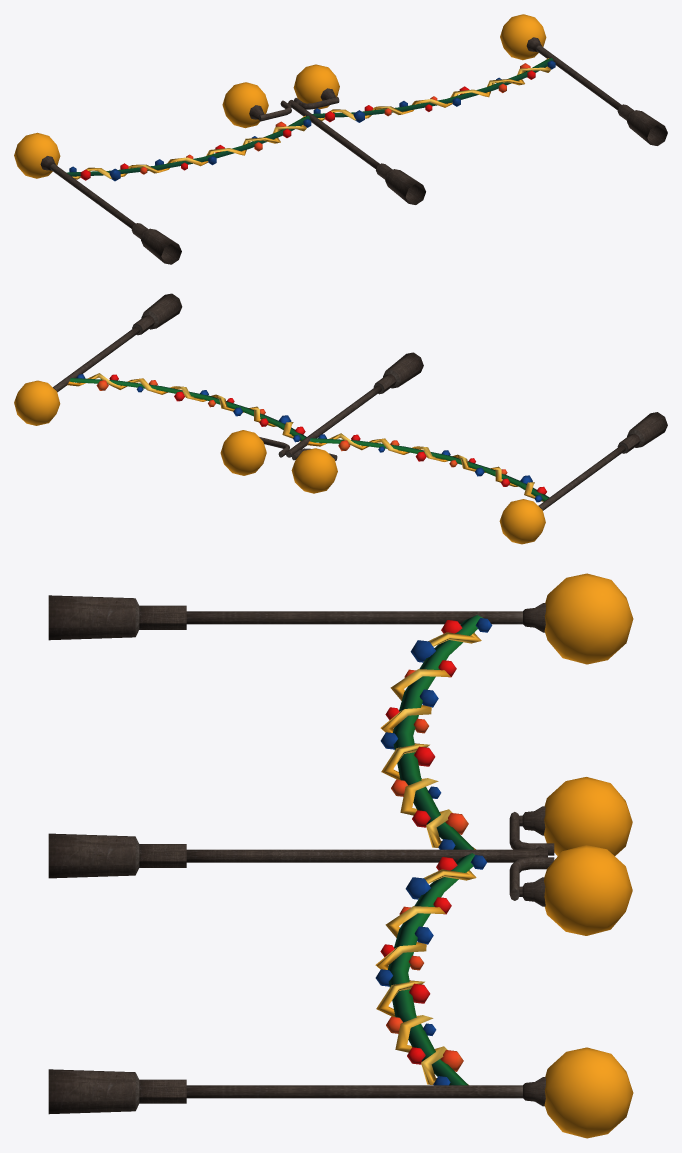
File: StreetLight_Garland_C.fbx
The picture shows the model from 3 angles, top to bottom: view 1: azimuth 30°, elevation 25°; view 2: azimuth 150°, elevation 25°; view 3: azimuth 270°, elevation 25°; orthographic projection. The views are drawn at different scales.
Visible parts, largest first — view 1: StreetLight_Garland_C; view 2: StreetLight_Garland_C; view 3: StreetLight_Garland_C.
Boxes of the visible parts, <box> form: StreetLight_Garland_C: <box>14,14,667,264</box>; StreetLight_Garland_C: <box>14,293,667,544</box>; StreetLight_Garland_C: <box>48,573,633,1138</box>.
Size of the model in its own units: 157 by 12.23 by 75.96.
